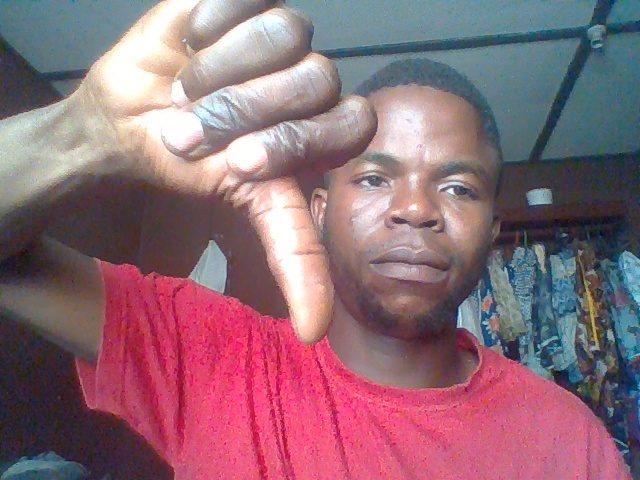Thumbdown: (72, 1, 376, 345)
